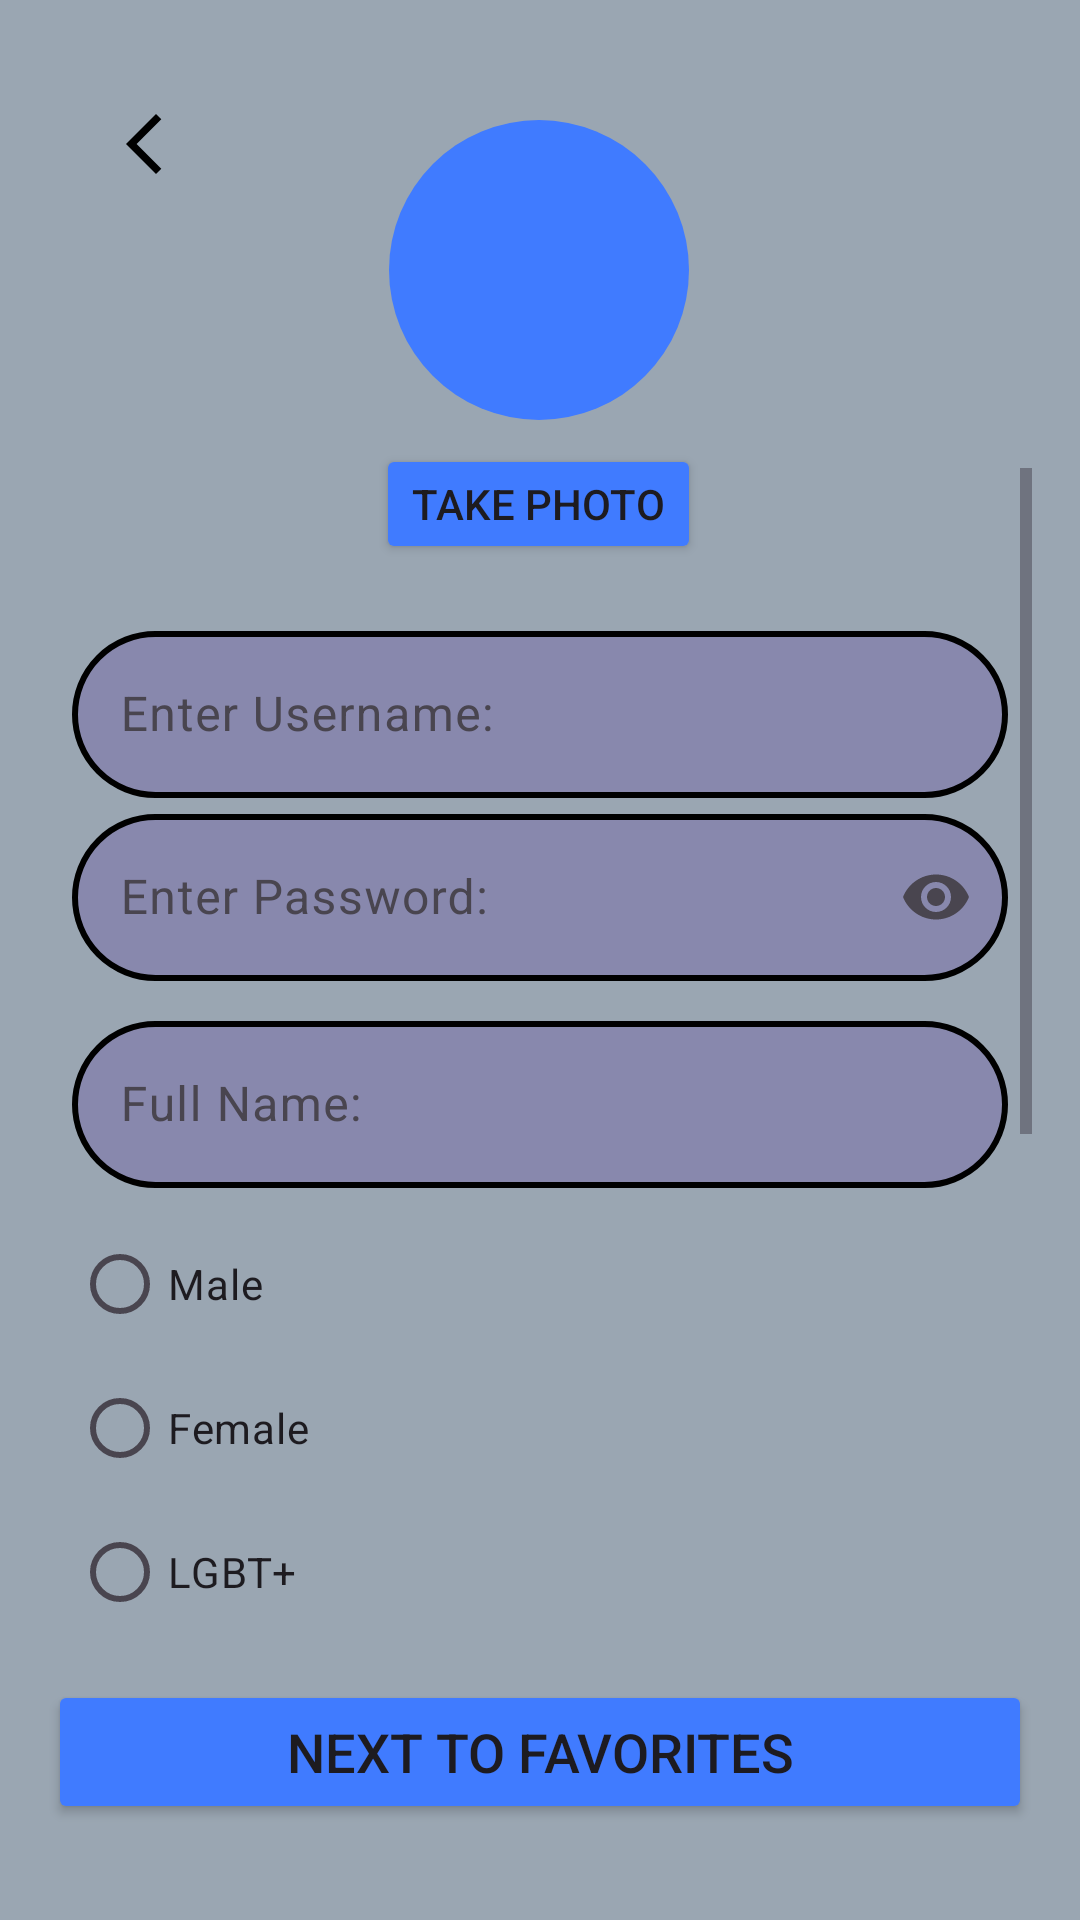

Icon click points for this 1080px×1920px phone screenshot, format point (x, y):
Back button: point (143, 144)
